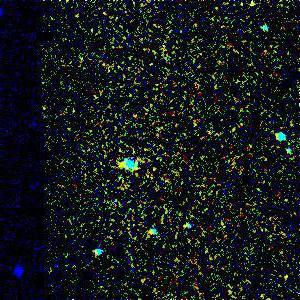star: (108, 148, 138, 178)
